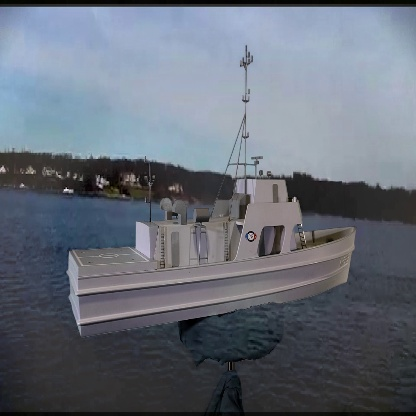YP689: (66, 36, 355, 341)
